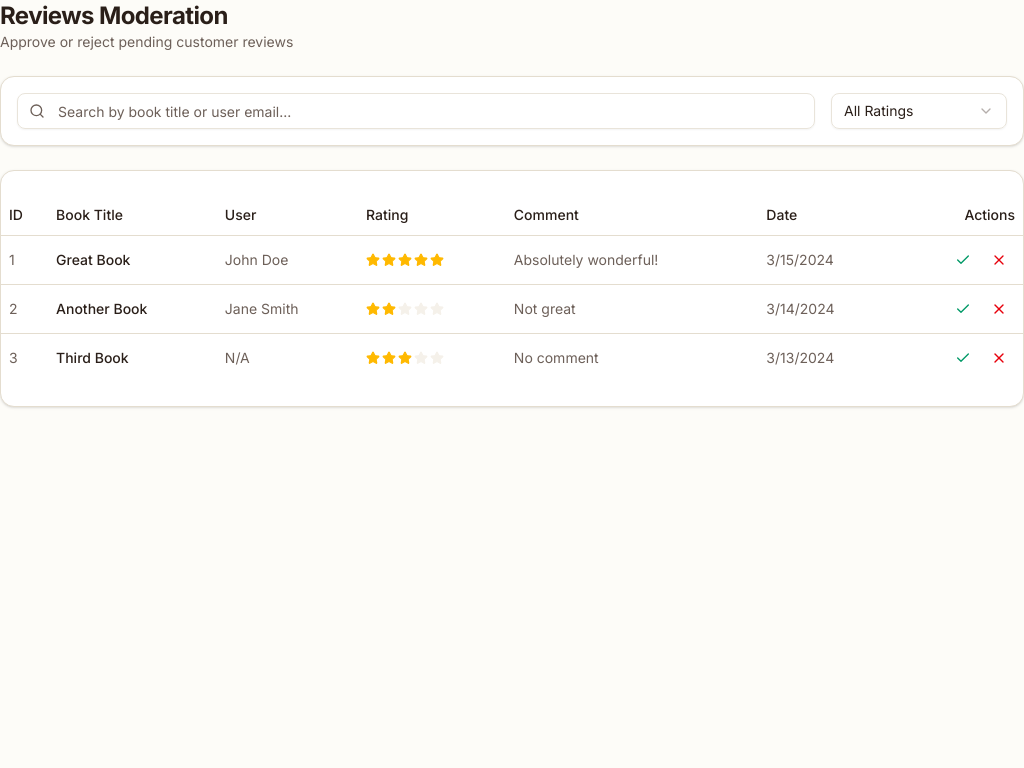
Test: ReviewsModerationPage › should open approve dialog when approve button is clicked
The image size is (1024, 768).
Expected: the text "Great Book" is shown, [48, 235, 217, 284]
Click the 1st button at (963, 260), box [947, 244, 979, 276]
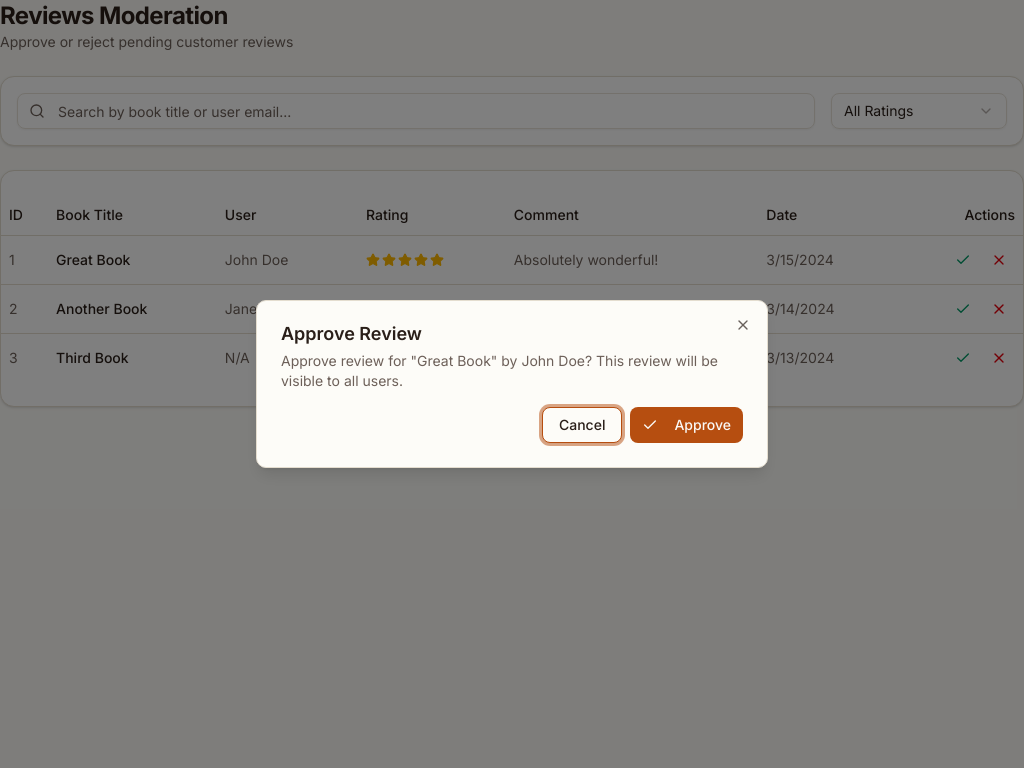
Now the heading "Approve Review" is shown, box [281, 323, 422, 344]
Now the text "Approve review for" is shown, box [281, 352, 417, 369]
